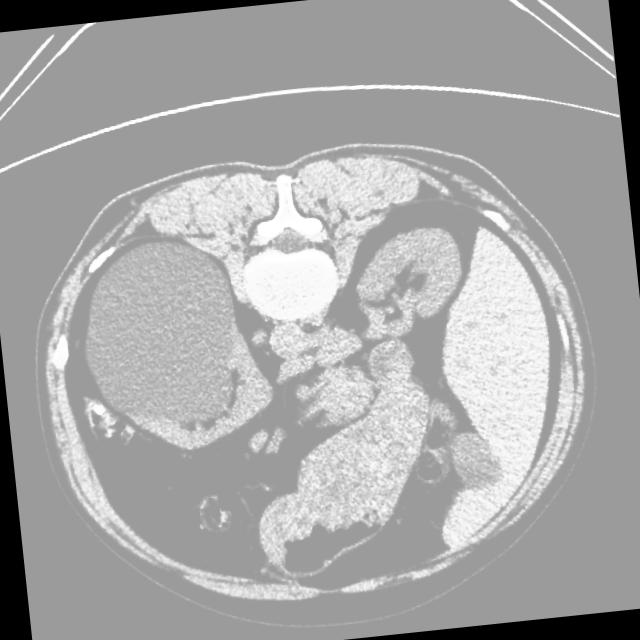cysts: (24, 124, 611, 629)
